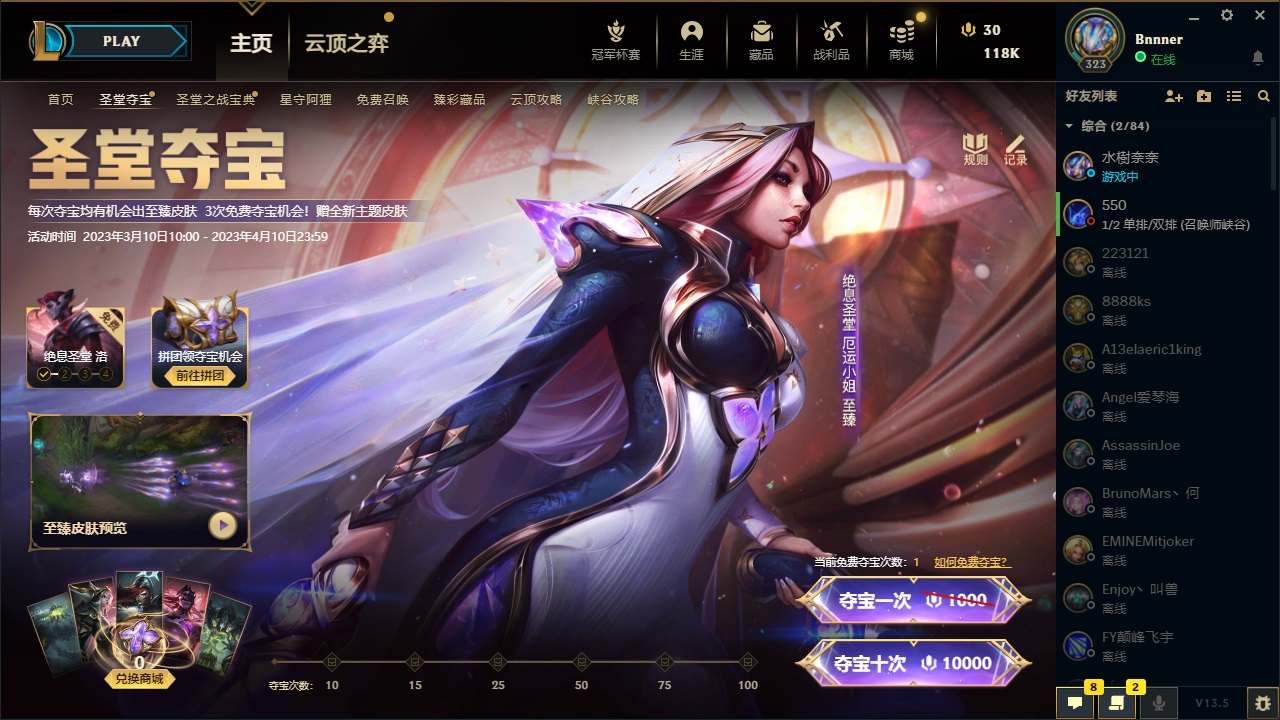PLAY: (65, 19, 189, 59)
